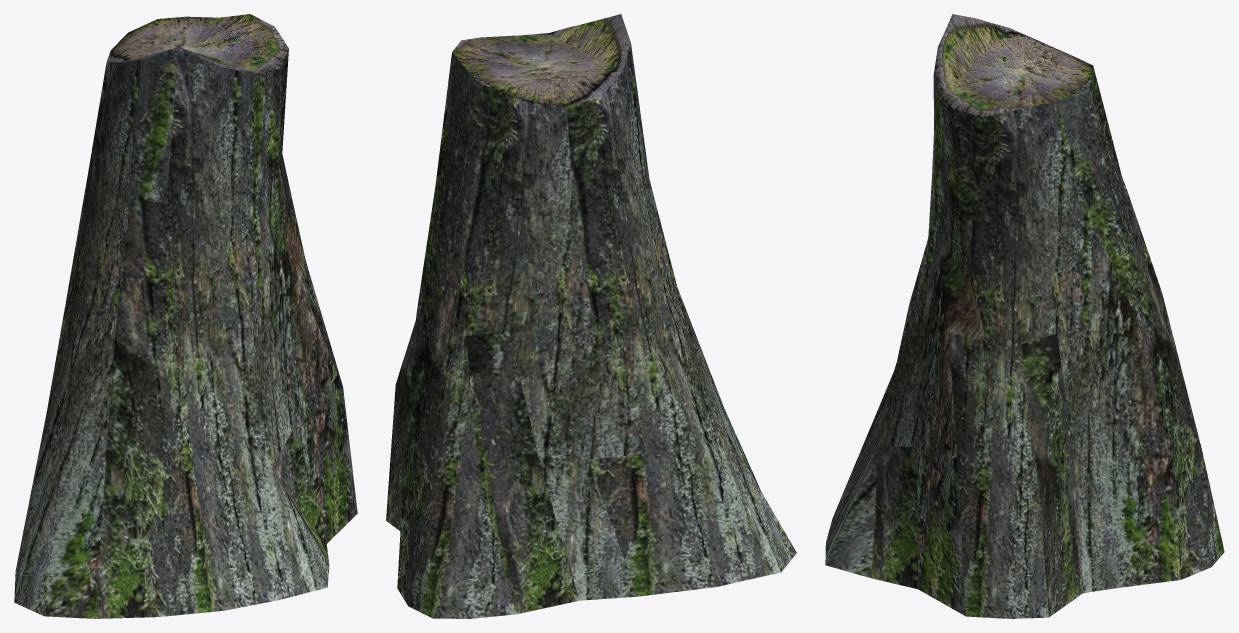
Rendered from Stump01.DAE.
The picture shows the model from 3 angles, left to right: view 1: azimuth 30°, elevation 25°; view 2: azimuth 150°, elevation 25°; view 3: azimuth 270°, elevation 25°; orthographic projection.
Parts seen in each view (by area): view 1: Foliage01; view 2: Foliage01; view 3: Foliage01.
Boxes of the visible parts, x1,y1,x2,y2 form: Foliage01: (14,14,357,618); Foliage01: (386,14,796,618); Foliage01: (825,14,1224,618).
Bounding box in the file's own units: 2.05 × 2.03 × 2.88.
